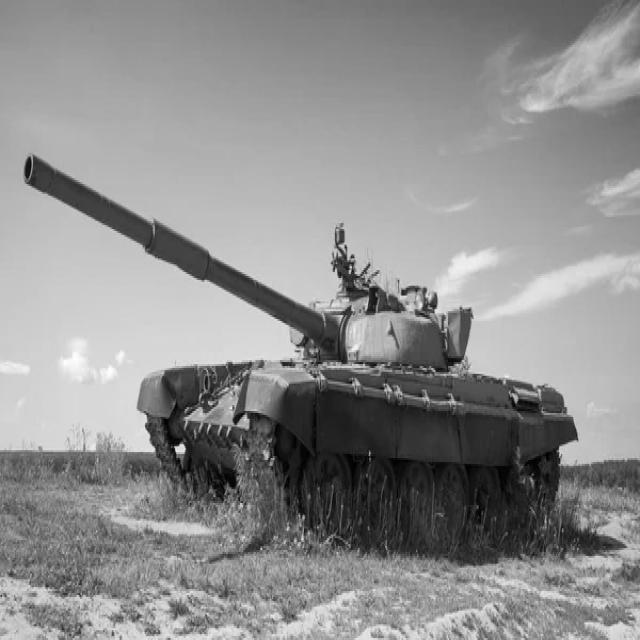Tank: (21, 140, 583, 540)
